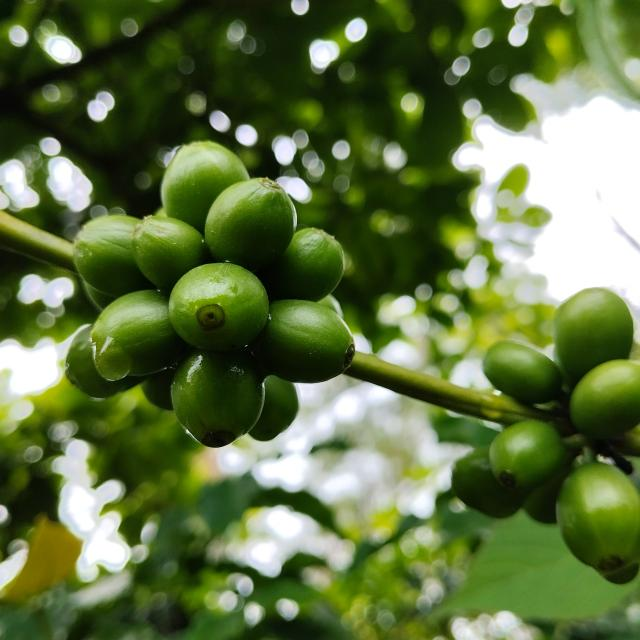green: (558, 462, 640, 583), (171, 348, 265, 448), (169, 262, 269, 351), (204, 177, 297, 271), (90, 290, 185, 381), (252, 300, 355, 383), (160, 140, 249, 233), (554, 288, 635, 381), (73, 215, 153, 297), (258, 228, 345, 301), (131, 215, 209, 294), (64, 326, 143, 399), (571, 360, 640, 440), (490, 421, 567, 490), (484, 340, 563, 404), (249, 375, 299, 442), (141, 368, 174, 411), (81, 280, 116, 311), (318, 294, 344, 318)
